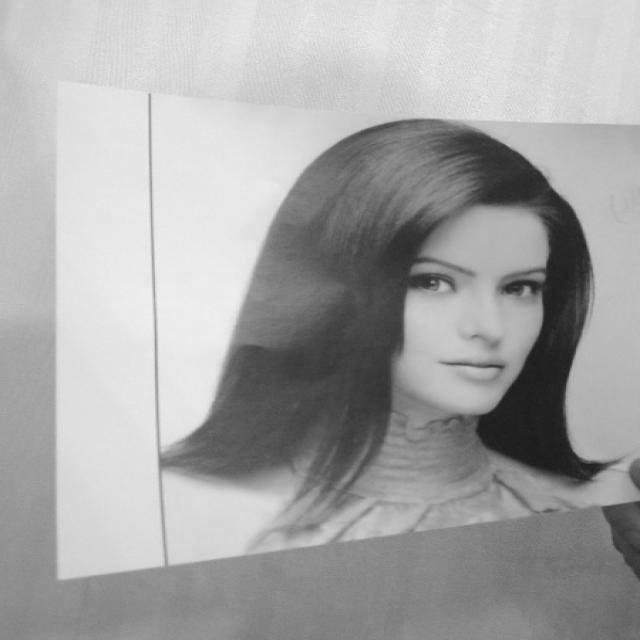fake: (46, 79, 640, 594)
